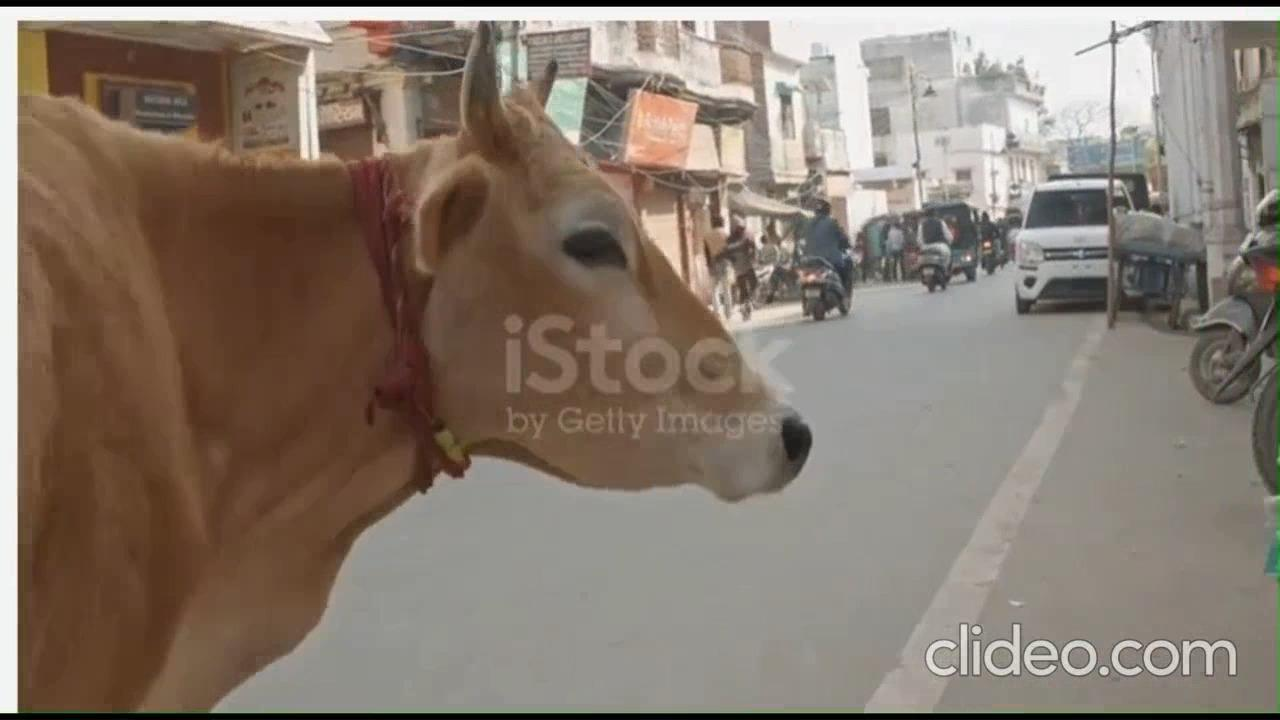Cow: (23, 34, 805, 711)
